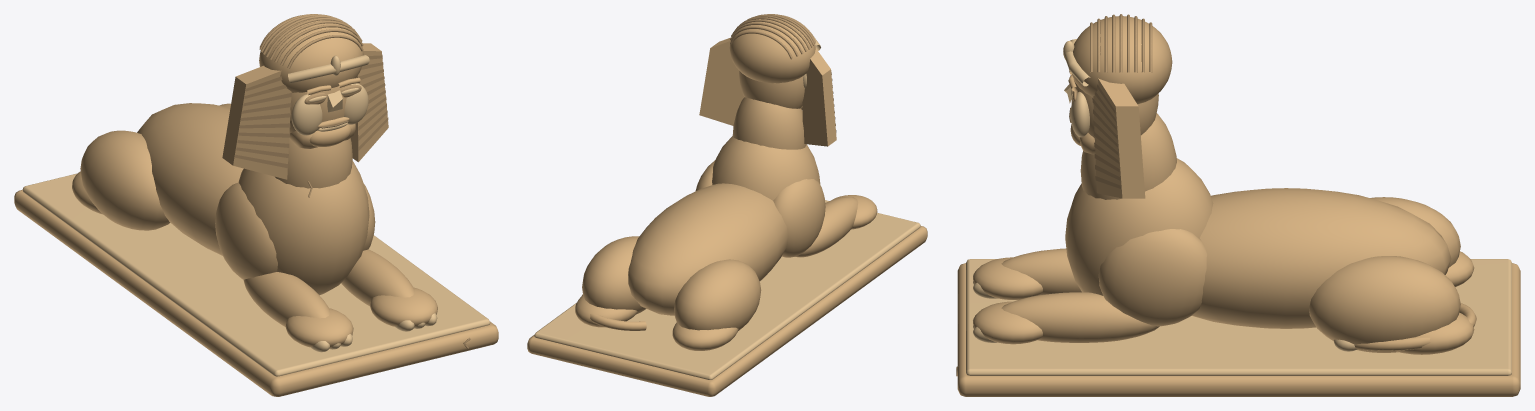
The model's file is sphinx.glb.
The picture shows the model from 3 angles, left to right: view 1: azimuth 30°, elevation 25°; view 2: azimuth 150°, elevation 25°; view 3: azimuth 270°, elevation 25°; orthographic projection. The views are drawn at different scales.
Visible parts, largest first — view 1: NileSphinx; view 2: NileSphinx; view 3: NileSphinx.
Part boxes in pixels (left/top/right/bottom): NileSphinx: left=14, top=14, right=498, bottom=396; NileSphinx: left=527, top=14, right=927, bottom=396; NileSphinx: left=956, top=14, right=1520, bottom=396.
Bounding box in the file's own units: 4 × 5 × 8.
